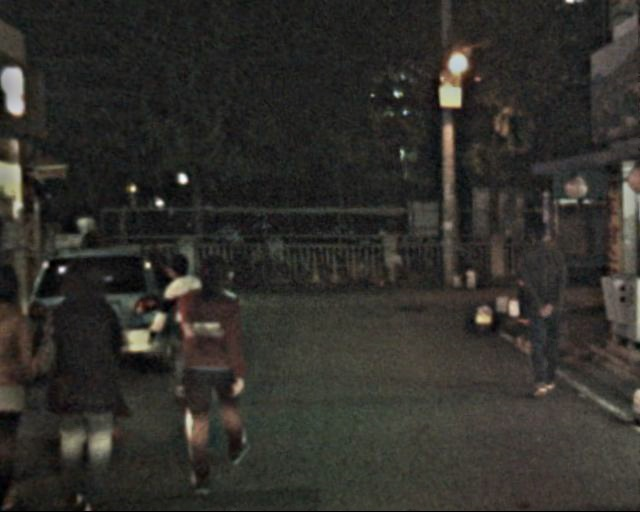person: (31, 244, 131, 503), (160, 244, 253, 488), (505, 209, 573, 404), (150, 240, 214, 418)
